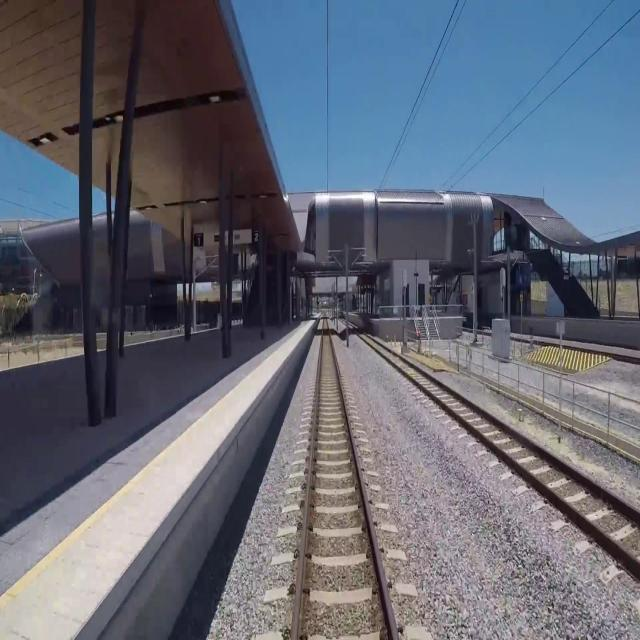rail-track: (368, 338, 640, 556), (296, 316, 393, 639)
